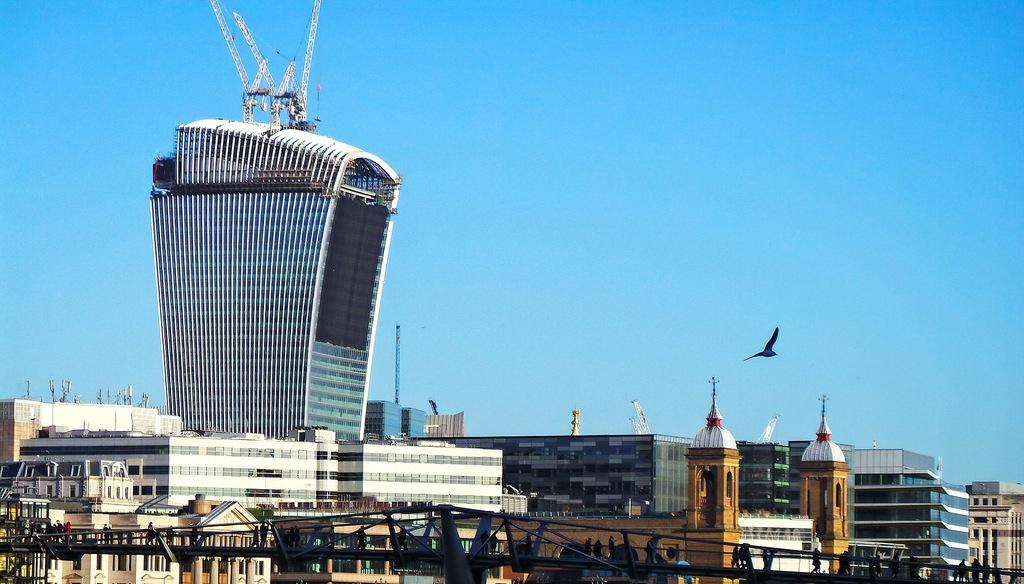Walkie talkie: (137, 102, 411, 434)
